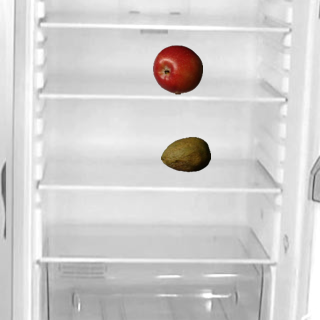Apple Braeburn: (152, 44, 202, 94)
Papaya: (160, 129, 210, 179)
